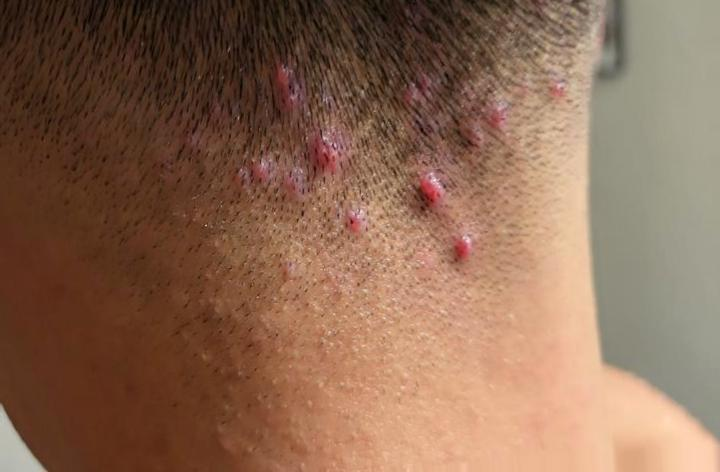Folliculitis: (239, 38, 583, 296)
